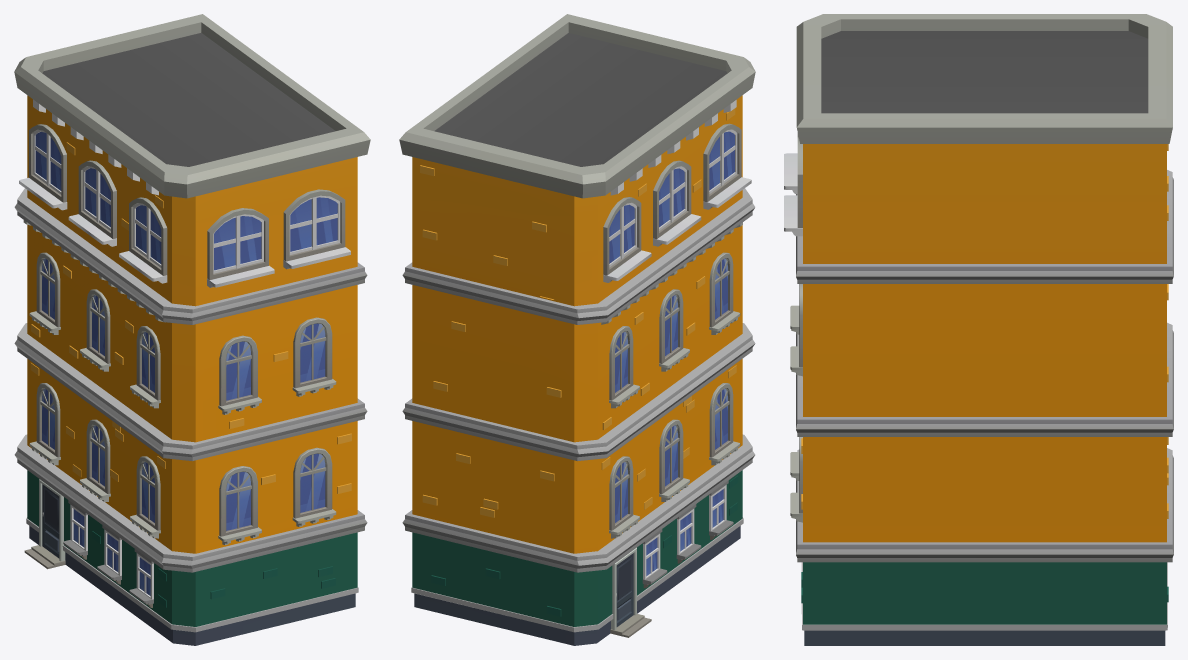
Rendered from Building_18_2_F.fbx.
3 views of the same model, side by side, from view 1: azimuth 30°, elevation 25°; view 2: azimuth 150°, elevation 25°; view 3: azimuth 270°, elevation 25° (orthographic). The views are drawn at different scales.
Visible parts, largest first — view 1: Building_18_2_F; view 2: Building_18_2_F; view 3: Building_18_2_F.
Boxes of the visible parts, x1,y1,x2,y2 form: Building_18_2_F: (14, 14, 370, 645); Building_18_2_F: (399, 14, 755, 645); Building_18_2_F: (784, 14, 1173, 645).
Bounding box in the file's own units: 719 × 1594 × 1059.
